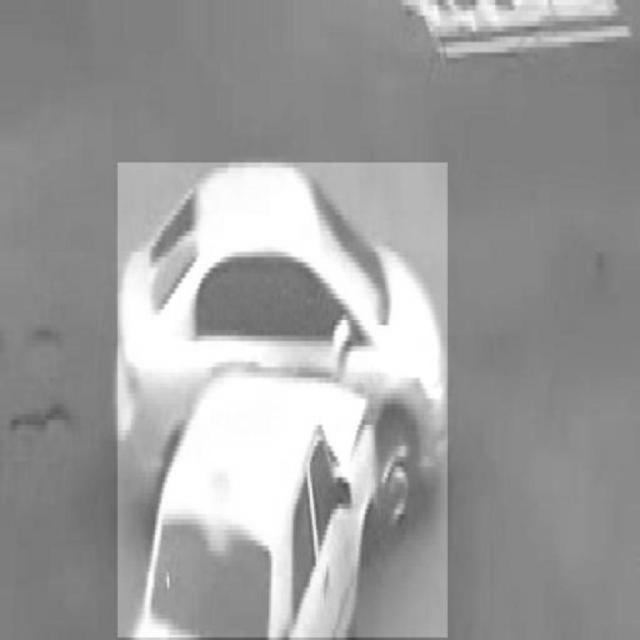accident: (118, 162, 448, 636)
